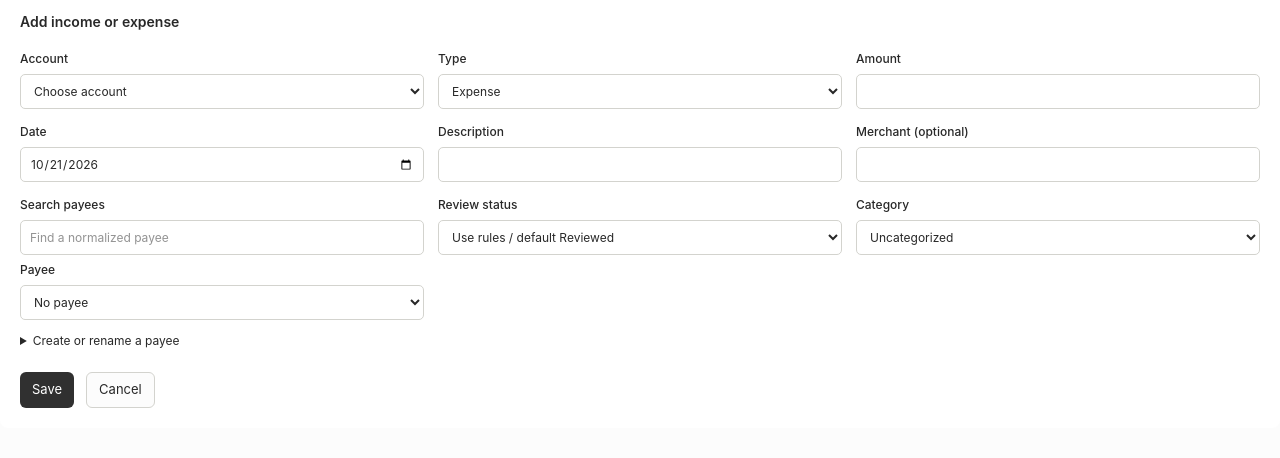
Test: rejects zero amounts before submitting income or expense
Select "Checking (BRL)" in the dropdown labelled "Account" at (222,92), box [20, 74, 424, 109]
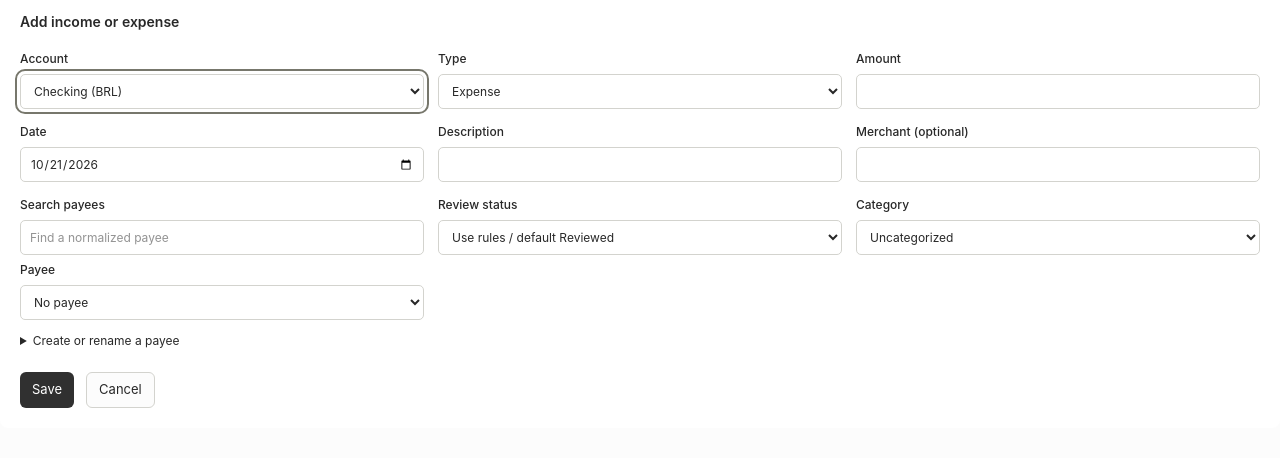
Type "0" into the field labelled "Amount" at (1058,92), box [856, 74, 1260, 109]
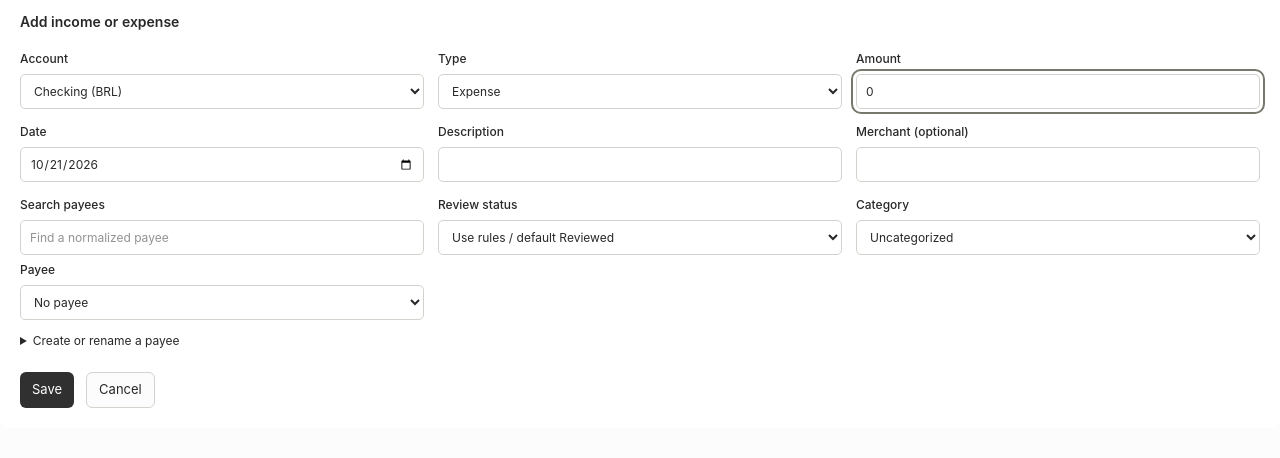
Type "Synthetic expense" into the field labelled "Description" at (640,164), box [438, 147, 842, 182]
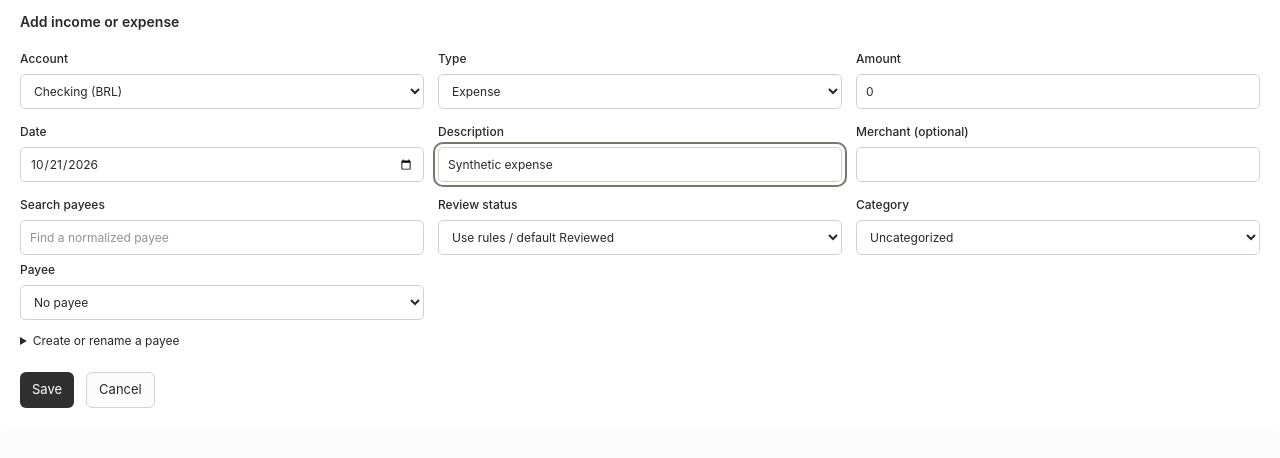
Click the button "Save" at (47,390), box [20, 372, 74, 408]
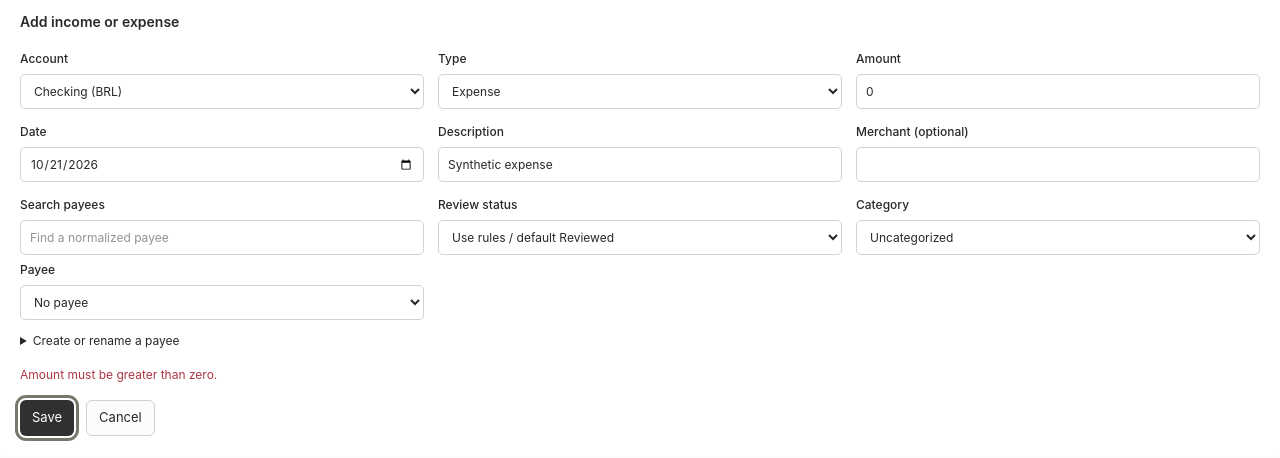
Check: the message shows "greater than zero", box [20, 367, 217, 382]
